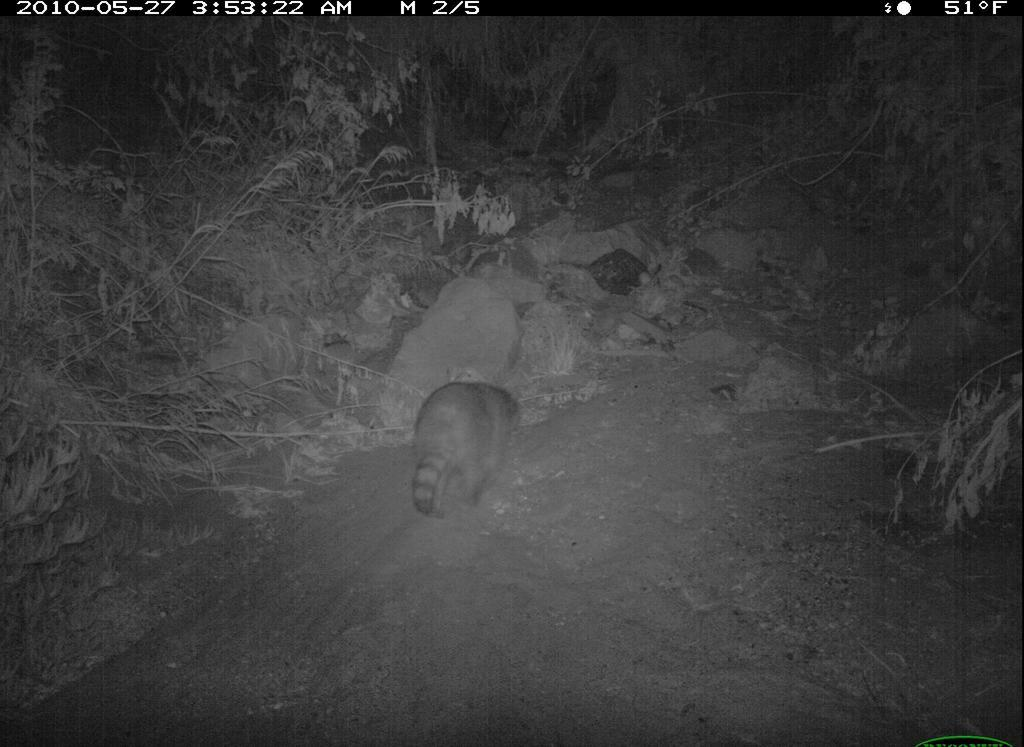raccoon: (381, 356, 524, 528)
